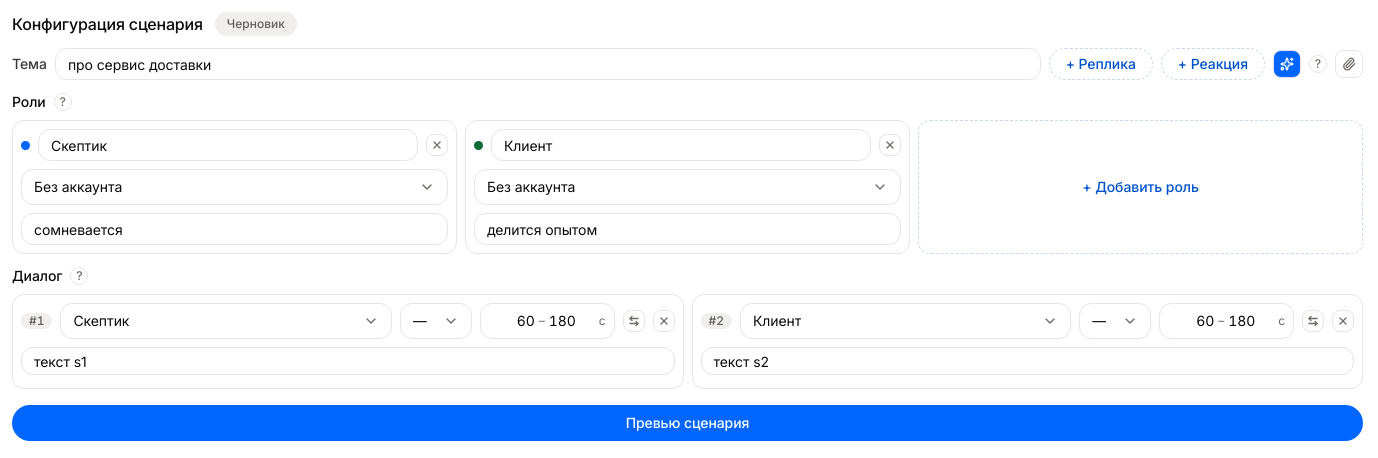
Test: removing a role unassigns the steps that spoke as it
Click the button named "Удалить роль 2". click: (890, 145)
box: [879,134,901,156]
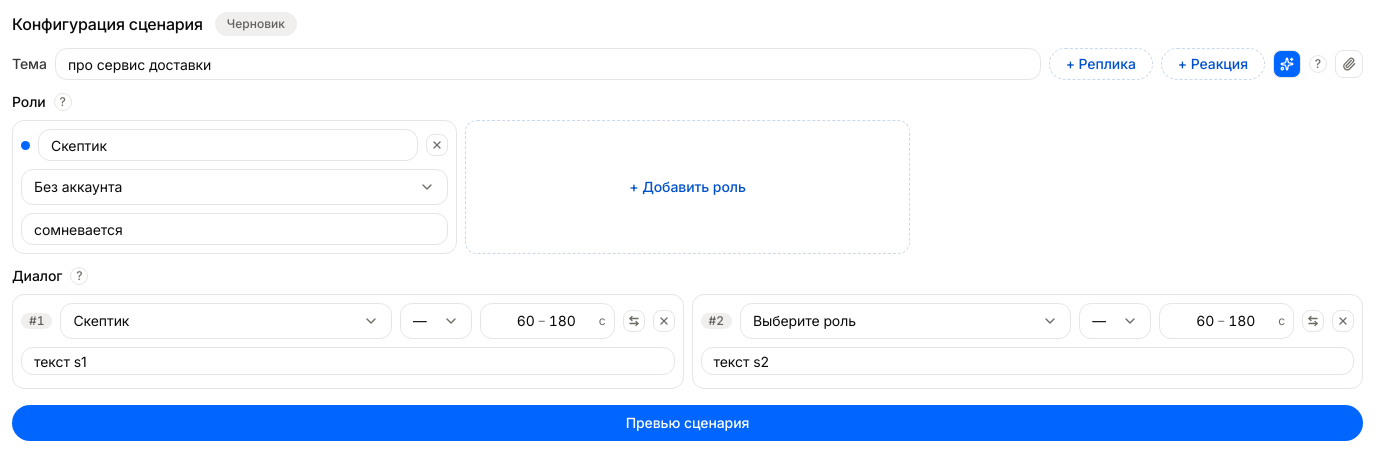
Expected: the dropdown named "Роль шага 2" reads "Выберите роль", [740,303,1071,339]
